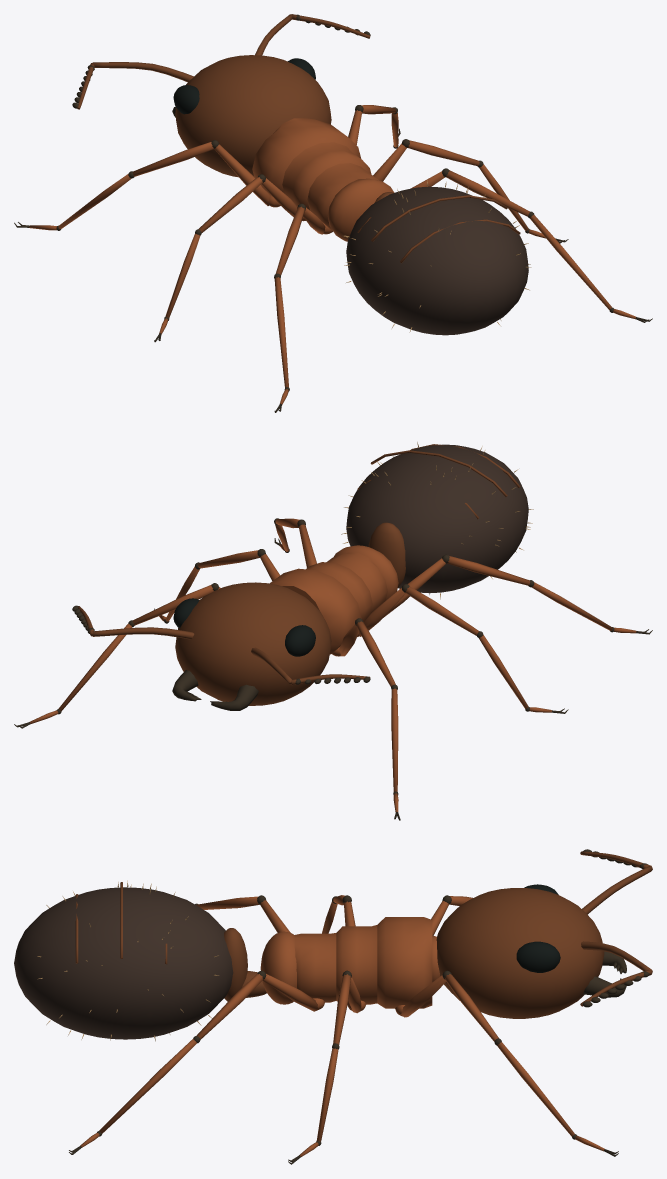
File: Ant.fbx
3 renders of one model, top to bottom at view 1: azimuth 30°, elevation 25°; view 2: azimuth 150°, elevation 25°; view 3: azimuth 270°, elevation 25°, orthographic. The views are drawn at different scales.
Visible parts, largest first — view 1: Material group Ant_Gaster_cuticle, Material group Ant_Mesosoma_cuticle, Material group Ant_Head_cuticle, Material group Ant_Joints_mandibles, Material group Ant_Eyes; view 2: Material group Ant_Gaster_cuticle, Material group Ant_Head_cuticle, Material group Ant_Mesosoma_cuticle, Material group Ant_Joints_mandibles, Material group Ant_Eyes; view 3: Material group Ant_Gaster_cuticle, Material group Ant_Mesosoma_cuticle, Material group Ant_Head_cuticle, Material group Ant_Joints_mandibles, Material group Ant_Eyes.
Boxes of the visible parts, left/top/right/bottom form: Material group Ant_Gaster_cuticle: left=346, top=186, right=528, bottom=335; Material group Ant_Mesosoma_cuticle: left=29, top=105, right=635, bottom=404; Material group Ant_Head_cuticle: left=77, top=14, right=520, bottom=263; Material group Ant_Joints_mandibles: left=14, top=14, right=652, bottom=412; Material group Ant_Eyes: left=173, top=58, right=315, bottom=114; Material group Ant_Gaster_cuticle: left=346, top=444, right=528, bottom=593; Material group Ant_Head_cuticle: left=78, top=444, right=520, bottom=705; Material group Ant_Mesosoma_cuticle: left=30, top=518, right=636, bottom=812; Material group Ant_Joints_mandibles: left=14, top=518, right=652, bottom=820; Material group Ant_Eyes: left=173, top=598, right=315, bottom=656; Material group Ant_Gaster_cuticle: left=14, top=887, right=233, bottom=1039; Material group Ant_Mesosoma_cuticle: left=80, top=895, right=604, bottom=1156; Material group Ant_Head_cuticle: left=75, top=851, right=652, bottom=1018; Material group Ant_Joints_mandibles: left=69, top=849, right=649, bottom=1164; Material group Ant_Eyes: left=516, top=884, right=560, bottom=972.
Bounding box in the file's own units: 0.8004 × 0.283 × 1.
